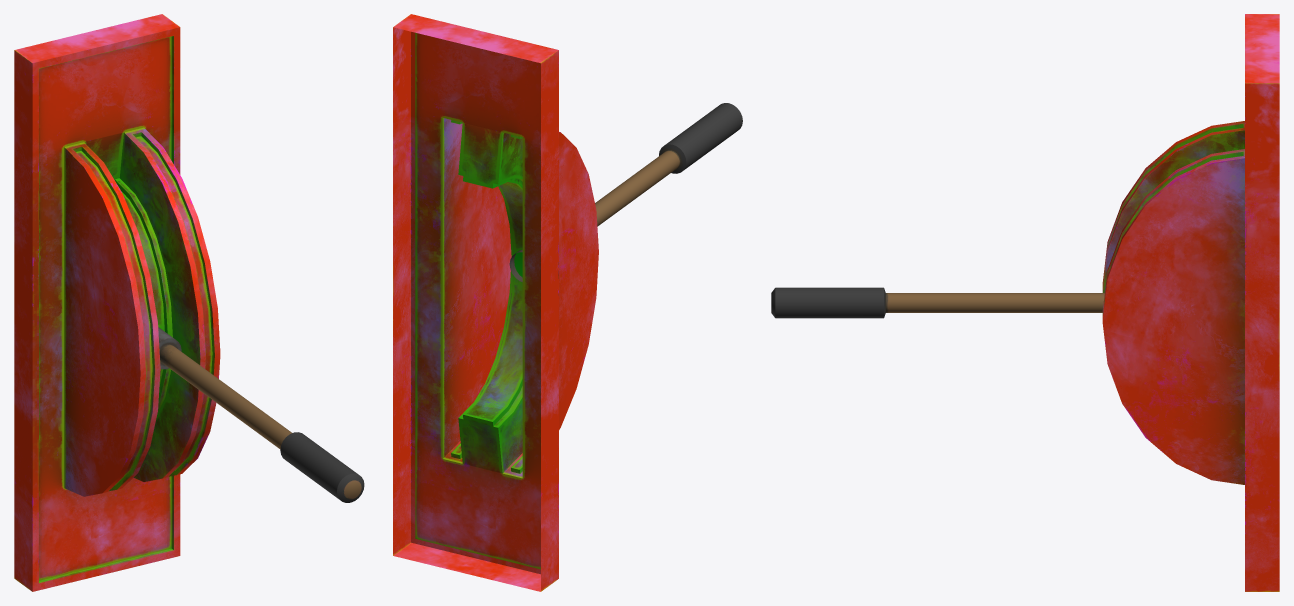
Rendered from lever.glb.
3 views of the same model, side by side, from view 1: azimuth 30°, elevation 25°; view 2: azimuth 150°, elevation 25°; view 3: azimuth 270°, elevation 25° (orthographic). The views are drawn at different scales.
Visible parts, largest first — view 1: lever_base, lever; view 2: lever_base, lever; view 3: lever_base, lever.
Boxes of the visible parts, x1,y1,x2,y2 form: lever_base: (14,14,220,591); lever: (158,327,364,502); lever_base: (393,14,598,591); lever: (509,103,742,281); lever_base: (1102,14,1279,591); lever: (771,287,1104,318).
Bounding box in the file's own units: 0.2155 × 0.7361 × 0.6671.
2 materials, 2 textured.
